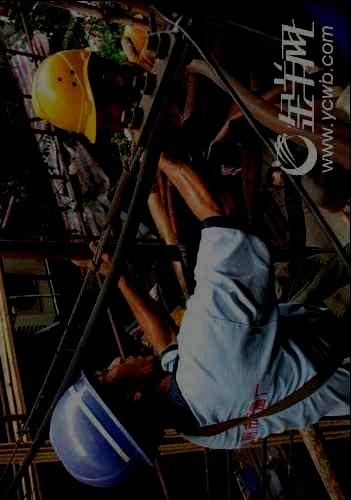helmet: (49, 355, 161, 487), (30, 46, 131, 144)
